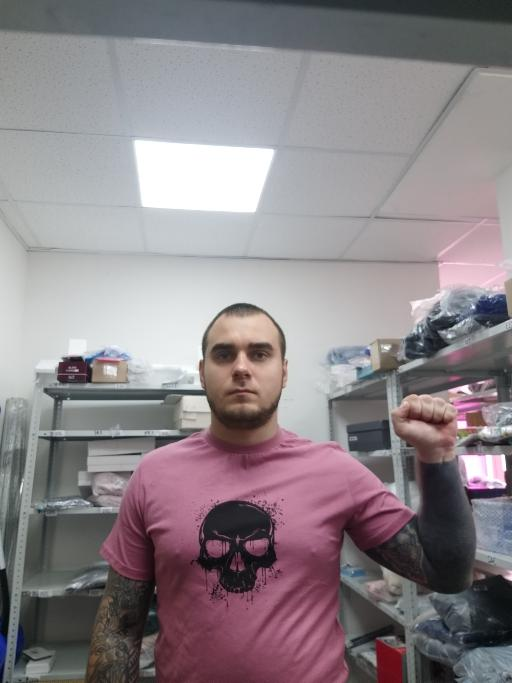fist: (389, 391, 461, 458)
